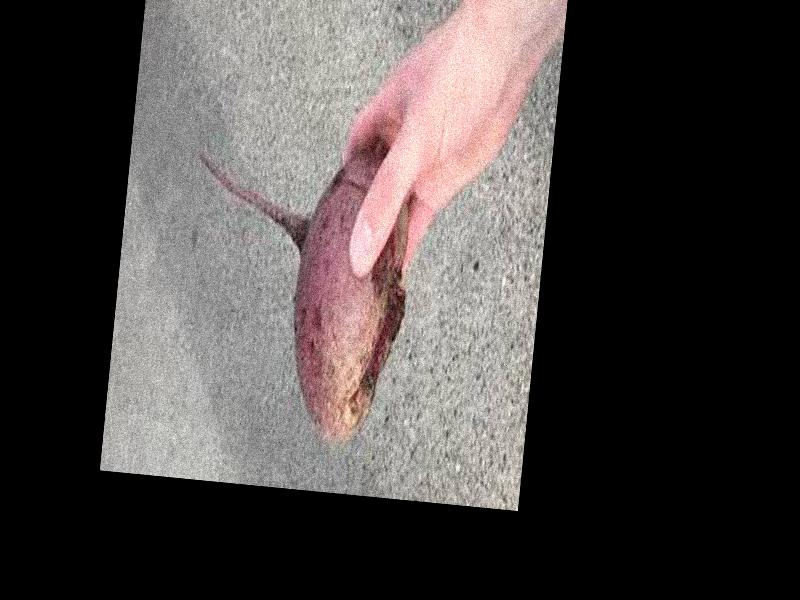Beet: (175, 142, 418, 445)
